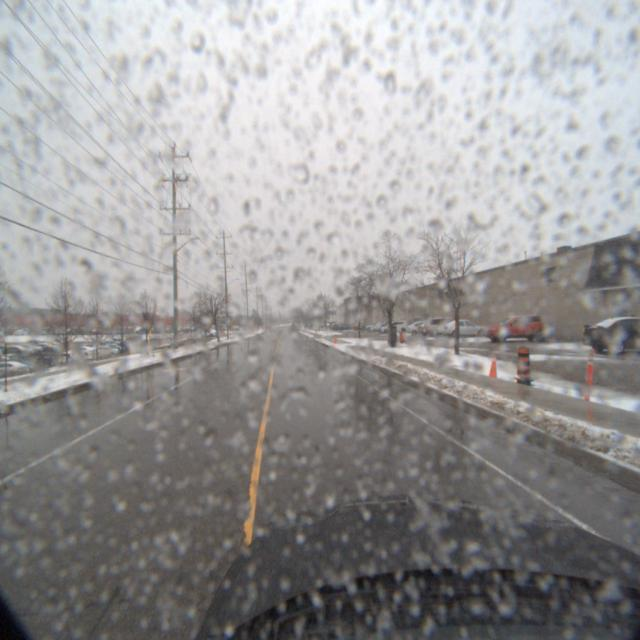Car: (480, 312, 558, 343), (439, 317, 493, 338), (422, 316, 470, 337), (406, 320, 442, 338), (381, 320, 411, 334)
